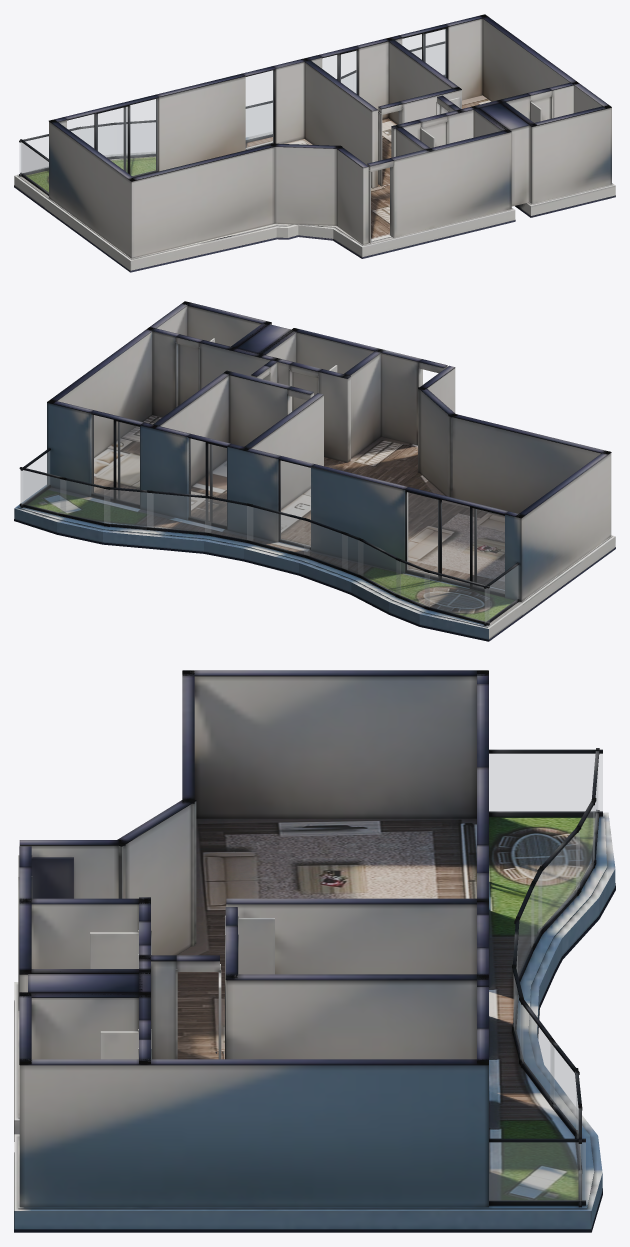
3 views of the same model, one above another, from view 1: azimuth 30°, elevation 25°; view 2: azimuth 150°, elevation 25°; view 3: azimuth 270°, elevation 25° (orthographic). The views are drawn at different scales.
Visible parts, largest first — view 1: plan, glass0_m, glass1_m, glass3_m, railg10_m, railg1_m, railg12_m, glass2_m, railg7_m, railg11_m, railg2_m; view 2: plan, glass0_m, glass3_m, glass2_m, railg12_m, glass1_m, railg5_m, railg7_m, railg3_m, railg4_m, railg6_m, railg2_m (+6 smaller); view 3: plan, railg1_m, railg0_m, railg10_m, railg5_m, railg4_m, railg11_m, railg8_m.
Boxes of the visible parts, x1,y1,x2,y2 form: plan: [14, 14, 615, 272]; glass0_m: [67, 99, 157, 176]; glass1_m: [246, 70, 273, 149]; glass3_m: [402, 29, 445, 76]; railg10_m: [116, 123, 155, 155]; railg1_m: [21, 143, 48, 192]; railg12_m: [19, 130, 76, 173]; glass2_m: [322, 51, 356, 93]; railg7_m: [246, 103, 272, 139]; railg11_m: [80, 126, 110, 156]; railg2_m: [426, 44, 444, 74]; plan: [14, 301, 615, 641]; glass0_m: [407, 492, 504, 593]; glass3_m: [92, 415, 139, 504]; glass2_m: [189, 438, 226, 525]; railg12_m: [425, 572, 489, 622]; glass1_m: [280, 461, 310, 546]; railg5_m: [147, 493, 210, 532]; railg7_m: [247, 506, 309, 555]; railg3_m: [60, 479, 109, 523]; railg4_m: [104, 489, 153, 527]; railg6_m: [205, 498, 252, 540]; railg2_m: [20, 470, 65, 514]; plan: [14, 670, 615, 1232]; railg1_m: [489, 754, 602, 811]; railg0_m: [489, 1142, 585, 1200]; railg10_m: [539, 831, 579, 931]; railg5_m: [520, 1003, 554, 1103]; railg4_m: [550, 1043, 577, 1133]; railg11_m: [576, 805, 594, 891]; railg8_m: [517, 889, 533, 976].
Bounding box in the file's own units: 13.52 × 2.62 × 8.63.
Materials: 2 (1 with a texture image).
